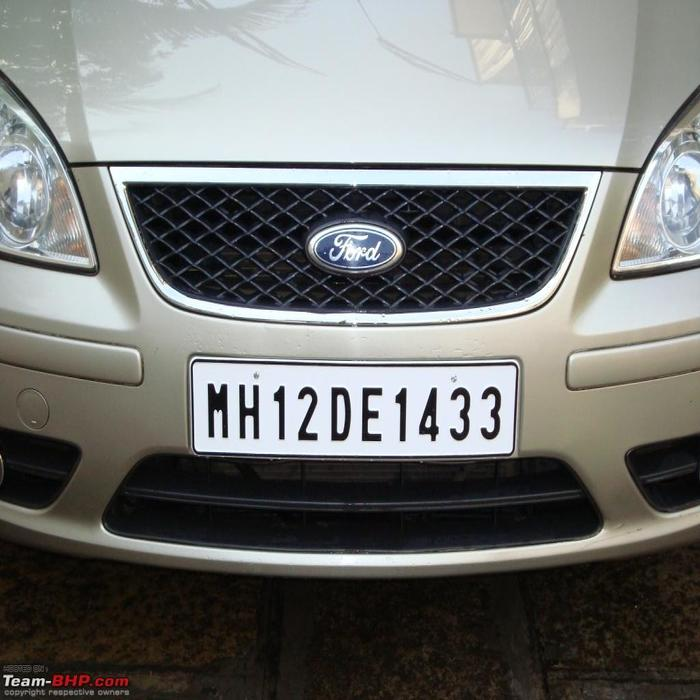n: (177, 350, 517, 462)
